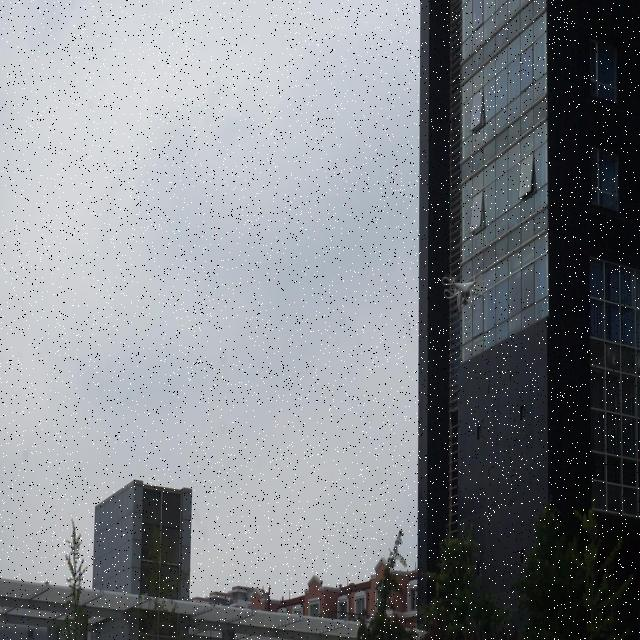UAV: (441, 274, 488, 312)
